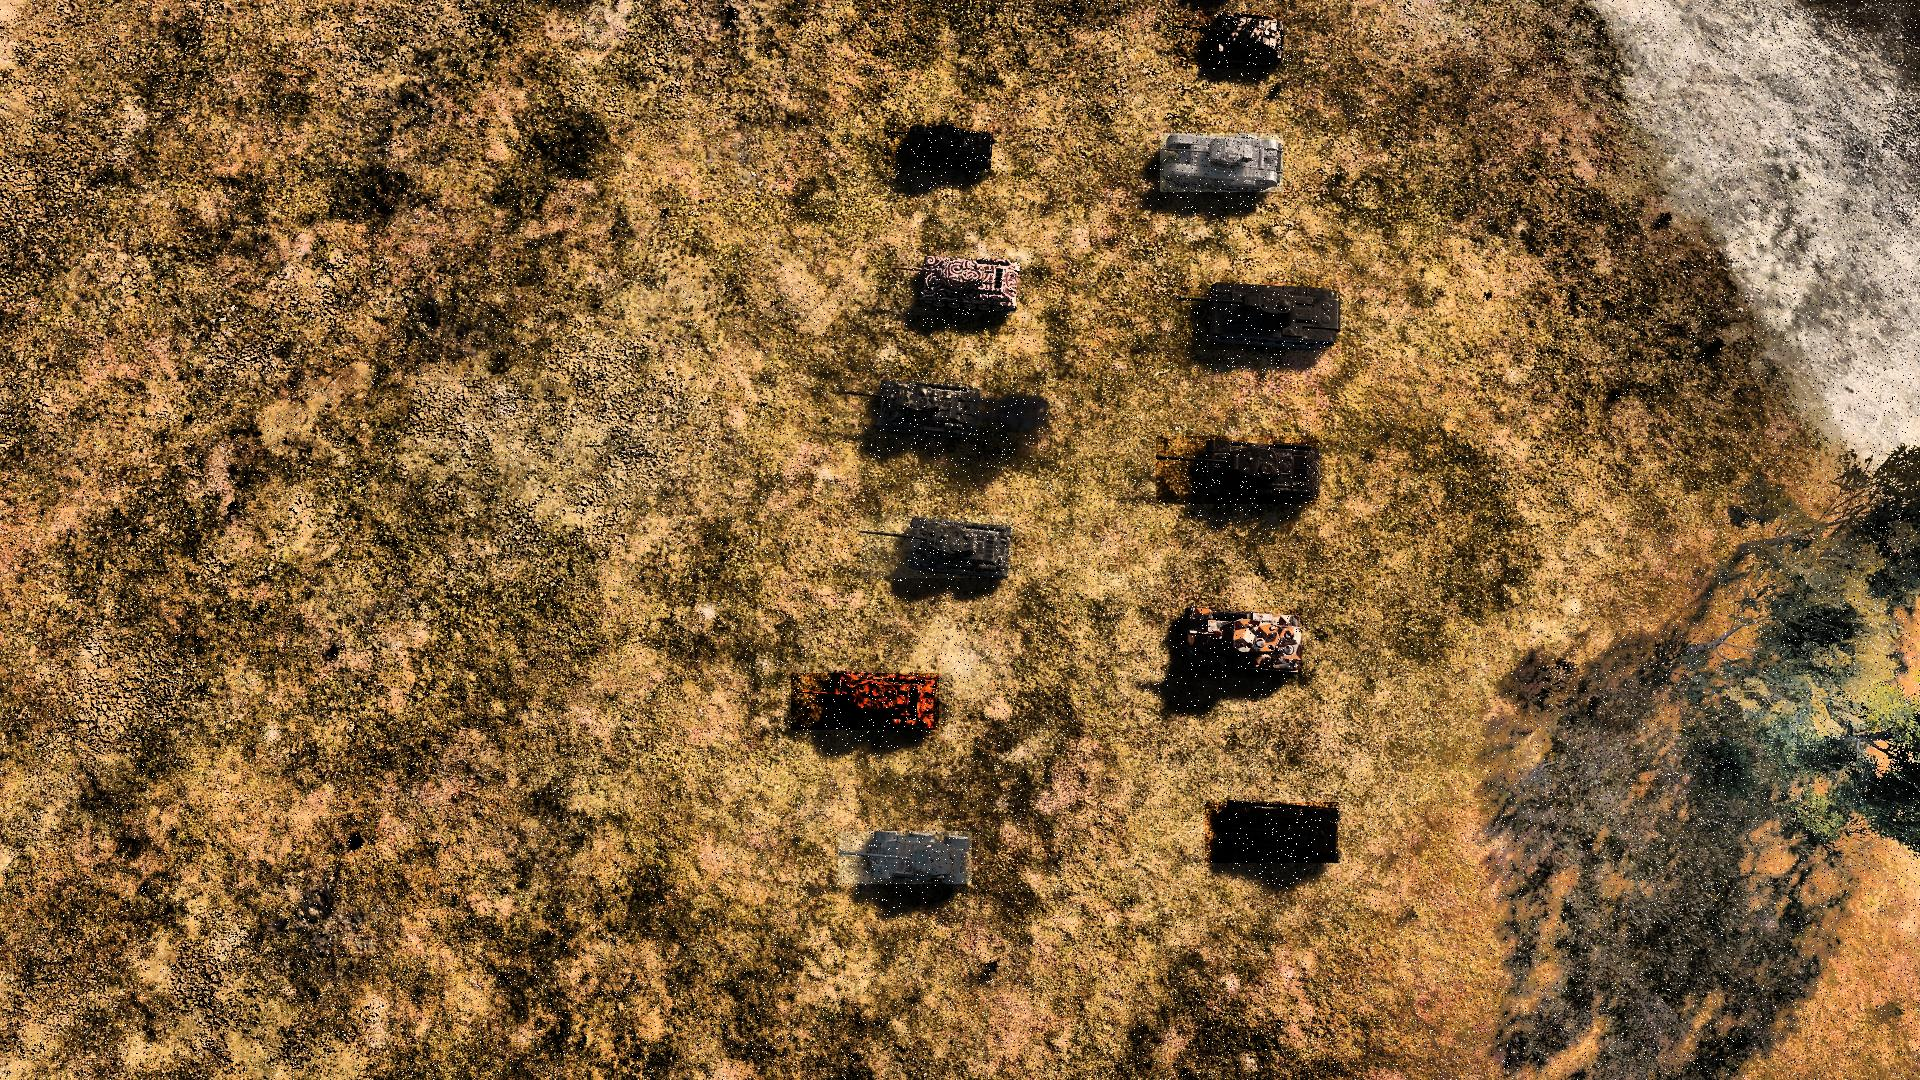military-vehicle: (1156, 436, 1320, 505), (1180, 280, 1340, 349), (860, 516, 1013, 579), (1170, 607, 1303, 678), (835, 380, 981, 438), (791, 674, 940, 731), (1205, 802, 1338, 864), (898, 253, 1017, 315), (1160, 133, 1283, 191), (839, 832, 972, 885), (1174, 12, 1282, 70), (885, 123, 997, 170)
